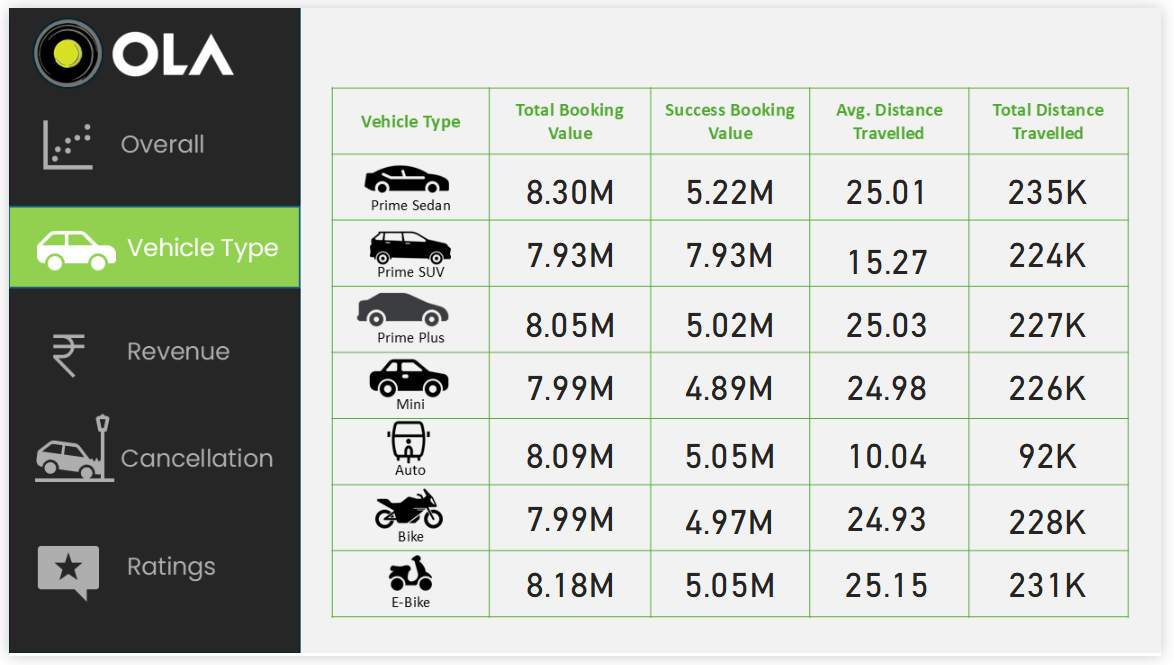

The page's visual inventory and layout, read from the dashboard file:
{"tool":"powerbi","page":{"name":"Vehicle Type","canvas":[1280,720],"ordinal":1},"visuals":[{"type":"actionButton","box":[0,338.8,324.5,89.1],"z":0},{"type":"actionButton","box":[0,111.3,324.5,89.1],"z":1000},{"type":"actionButton","box":[0,445.4,324.5,97],"z":2000},{"type":"actionButton","box":[0,574.2,324.5,97],"z":3000},{"type":"card","fields":{"Values":["Sum(July.Booking_Value)"]},"box":[543.3,165,160,70],"z":4000},{"type":"card","fields":{"Values":["Sum(July.Booking_Value)"]},"box":[543.3,235,160,70],"z":5000},{"type":"card","fields":{"Values":["Sum(July.Booking_Value)"]},"box":[543.3,313.3,160,70],"z":6000},{"type":"card","fields":{"Values":["Sum(July.Booking_Value)"]},"box":[543.3,383.3,160,70],"z":7000},{"type":"card","fields":{"Values":["Sum(July.Booking_Value)"]},"box":[543.3,458.3,160,70],"z":8000},{"type":"card","fields":{"Values":["Sum(July.Booking_Value)"]},"box":[543.3,528.3,160,70],"z":9000},{"type":"card","fields":{"Values":["Sum(July.Booking_Value)"]},"box":[543.3,601.7,160,70],"z":10000},{"type":"card","fields":{"Values":["Sum(July.Booking_Value)"]},"box":[720,165,160,70],"z":11000},{"type":"card","fields":{"Values":["Sum(July.Booking_Value)"]},"box":[720,235,160,70],"z":12000},{"type":"card","fields":{"Values":["Sum(July.Booking_Value)"]},"box":[720,313.3,160,70],"z":13000},{"type":"card","fields":{"Values":["Sum(July.Booking_Value)"]},"box":[720,383.3,160,70],"z":14000},{"type":"card","fields":{"Values":["Sum(July.Booking_Value)"]},"box":[720,458.3,160,70],"z":15000},{"type":"card","fields":{"Values":["Sum(July.Booking_Value)"]},"box":[720,531.7,160,70],"z":16000},{"type":"card","fields":{"Values":["Sum(July.Booking_Value)"]},"box":[720,601.7,160,70],"z":17000},{"type":"card","fields":{"Values":["Avg(July.Ride_Distance)"]},"box":[895,165,160,70],"z":18000},{"type":"card","fields":{"Values":["Avg(July.Ride_Distance)"]},"box":[895,243.3,160,70],"z":19000},{"type":"card","fields":{"Values":["Avg(July.Ride_Distance)"]},"box":[895,313.3,160,70],"z":20000},{"type":"card","fields":{"Values":["Avg(July.Ride_Distance)"]},"box":[895,383.3,160,70],"z":21000},{"type":"card","fields":{"Values":["Avg(July.Ride_Distance)"]},"box":[895,458.3,160,70],"z":22000},{"type":"card","fields":{"Values":["Avg(July.Ride_Distance)"]},"box":[895,528.3,160,70],"z":23000},{"type":"card","fields":{"Values":["Avg(July.Ride_Distance)"]},"box":[895,601.7,160,70],"z":24000},{"type":"card","fields":{"Values":["Sum(July.Ride_Distance)"]},"box":[1073.3,165,160,70],"z":25000},{"type":"card","fields":{"Values":["Sum(July.Ride_Distance)"]},"box":[1073.3,235,160,70],"z":26000},{"type":"card","fields":{"Values":["Sum(July.Ride_Distance)"]},"box":[1073.3,313.3,160,70],"z":27000},{"type":"card","fields":{"Values":["Sum(July.Ride_Distance)"]},"box":[1073.3,383.3,160,70],"z":28000},{"type":"card","fields":{"Values":["Sum(July.Ride_Distance)"]},"box":[1073.3,458.3,160,70],"z":29000},{"type":"card","fields":{"Values":["Sum(July.Ride_Distance)"]},"box":[1073.3,531.7,160,70],"z":30000},{"type":"card","fields":{"Values":["Sum(July.Ride_Distance)"]},"box":[1073.3,601.7,160,70],"z":31000}]}

Visuals, with their boxes on the page's 1280x720 design canvas (x1, y1, x2, y2). These are canvas units, not pixel positions in the 1174x665 screenshot, which may show the page scaled, cropped or inside an application window:
actionButton: 0, 339, 324, 428
actionButton: 0, 111, 324, 200
actionButton: 0, 445, 324, 542
actionButton: 0, 574, 324, 671
card - Sum(July.Booking_Value): 543, 165, 703, 235
card - Sum(July.Booking_Value): 543, 235, 703, 305
card - Sum(July.Booking_Value): 543, 313, 703, 383
card - Sum(July.Booking_Value): 543, 383, 703, 453
card - Sum(July.Booking_Value): 543, 458, 703, 528
card - Sum(July.Booking_Value): 543, 528, 703, 598
card - Sum(July.Booking_Value): 543, 602, 703, 672
card - Sum(July.Booking_Value): 720, 165, 880, 235
card - Sum(July.Booking_Value): 720, 235, 880, 305
card - Sum(July.Booking_Value): 720, 313, 880, 383
card - Sum(July.Booking_Value): 720, 383, 880, 453
card - Sum(July.Booking_Value): 720, 458, 880, 528
card - Sum(July.Booking_Value): 720, 532, 880, 602
card - Sum(July.Booking_Value): 720, 602, 880, 672
card - Avg(July.Ride_Distance): 895, 165, 1055, 235
card - Avg(July.Ride_Distance): 895, 243, 1055, 313
card - Avg(July.Ride_Distance): 895, 313, 1055, 383
card - Avg(July.Ride_Distance): 895, 383, 1055, 453
card - Avg(July.Ride_Distance): 895, 458, 1055, 528
card - Avg(July.Ride_Distance): 895, 528, 1055, 598
card - Avg(July.Ride_Distance): 895, 602, 1055, 672
card - Sum(July.Ride_Distance): 1073, 165, 1233, 235
card - Sum(July.Ride_Distance): 1073, 235, 1233, 305
card - Sum(July.Ride_Distance): 1073, 313, 1233, 383
card - Sum(July.Ride_Distance): 1073, 383, 1233, 453
card - Sum(July.Ride_Distance): 1073, 458, 1233, 528
card - Sum(July.Ride_Distance): 1073, 532, 1233, 602
card - Sum(July.Ride_Distance): 1073, 602, 1233, 672
